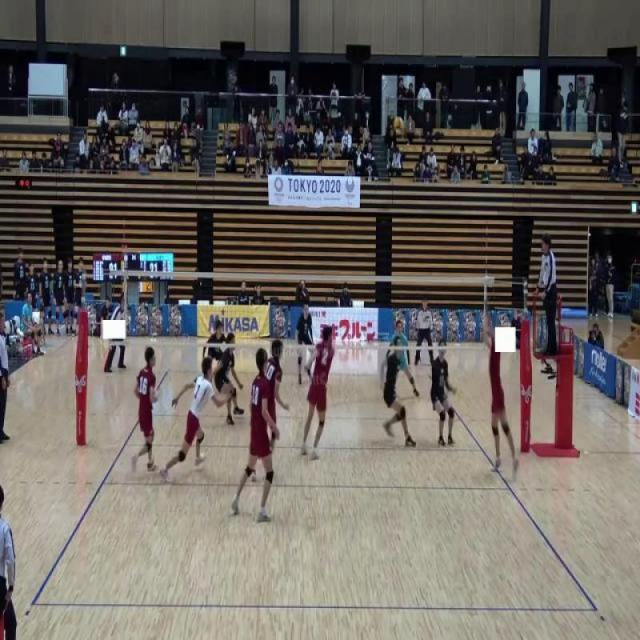volleyball: (393, 115, 404, 134)
